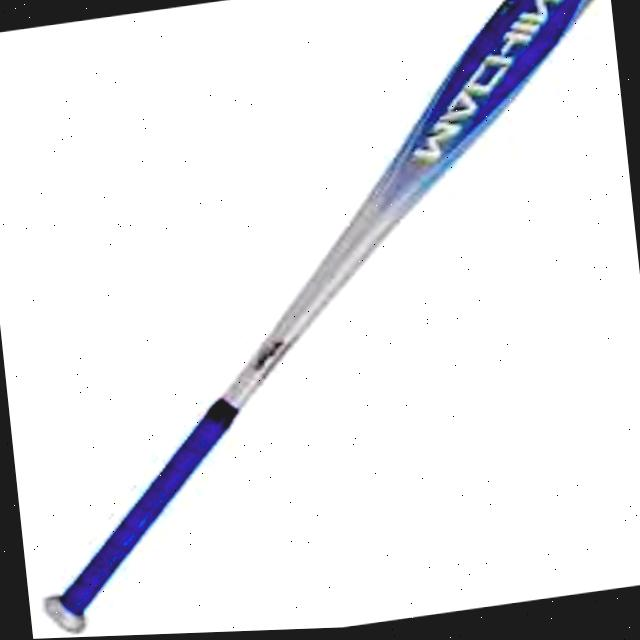baseball bat: (43, 0, 599, 637)
